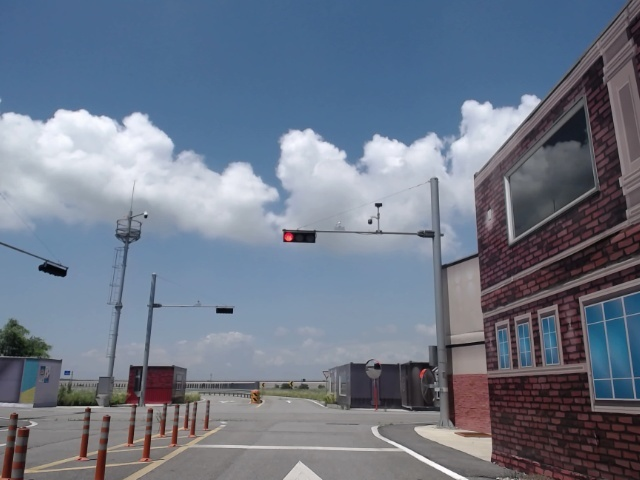red_3: (282, 230, 314, 243)
